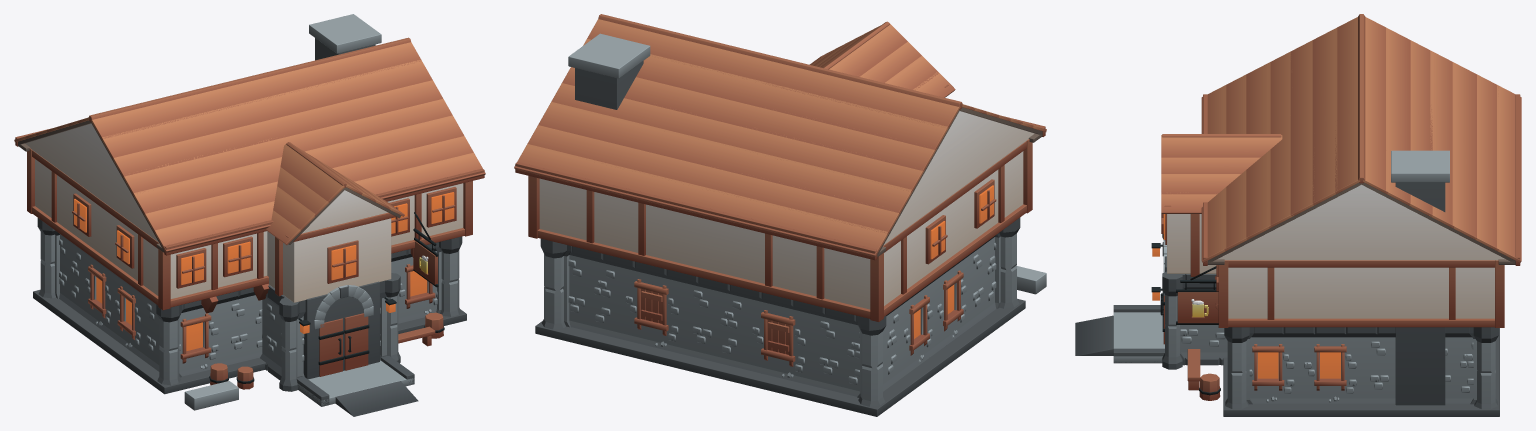
The model's file is tavern.glb.
3 renders of one model, left to right at view 1: azimuth 30°, elevation 25°; view 2: azimuth 150°, elevation 25°; view 3: azimuth 270°, elevation 25°, orthographic. The views are drawn at different scales.
Parts seen in each view (by area): view 1: tavern; view 2: tavern; view 3: tavern.
Part boxes in pixels (x1,y1,x2,y2): tavern: (14,14,485,416); tavern: (514,14,1046,416); tavern: (1075,14,1521,416).
Size of the model in its own units: 17.1 by 11.88 by 19.7.
33 materials, 33 textured.
